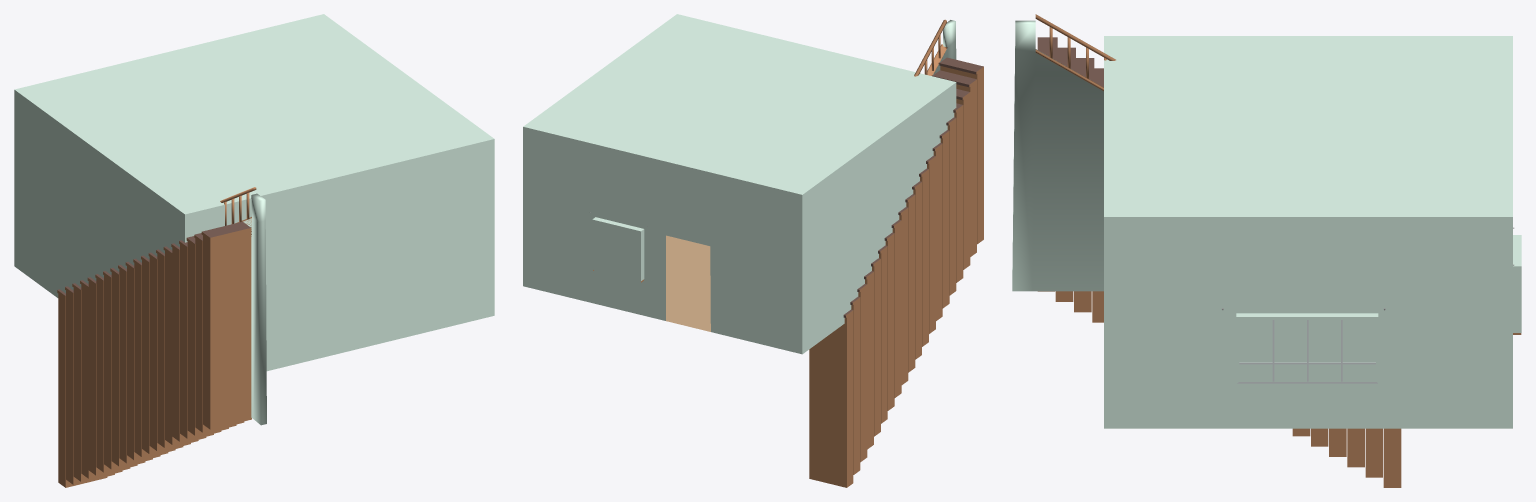
File: ApartmentFBX.fbx
The picture shows the model from 3 angles, left to right: view 1: azimuth 30°, elevation 25°; view 2: azimuth 150°, elevation 25°; view 3: azimuth 270°, elevation 25°; orthographic projection. The views are drawn at different scales.
Parts seen in each view (by area): view 1: Walls, Stairs, RailsStairs; view 2: Walls, Stairs, RailsStairs; view 3: Walls, RailsStairs, Stairs, Window2.
Part boxes in pixels (left/top/right/bottom): Walls: left=14, top=14, right=494, bottom=371; Stairs: left=57, top=221, right=251, bottom=487; RailsStairs: left=220, top=187, right=266, bottom=425; Walls: left=523, top=14, right=956, bottom=354; Stairs: left=809, top=57, right=983, bottom=487; RailsStairs: left=914, top=19, right=956, bottom=76; Walls: left=1104, top=36, right=1521, bottom=428; RailsStairs: left=1012, top=14, right=1115, bottom=291; Stairs: left=1037, top=37, right=1401, bottom=487; Window2: left=1237, top=320, right=1377, bottom=383.
Size of the model in its own units: 754 by 898 by 872.
